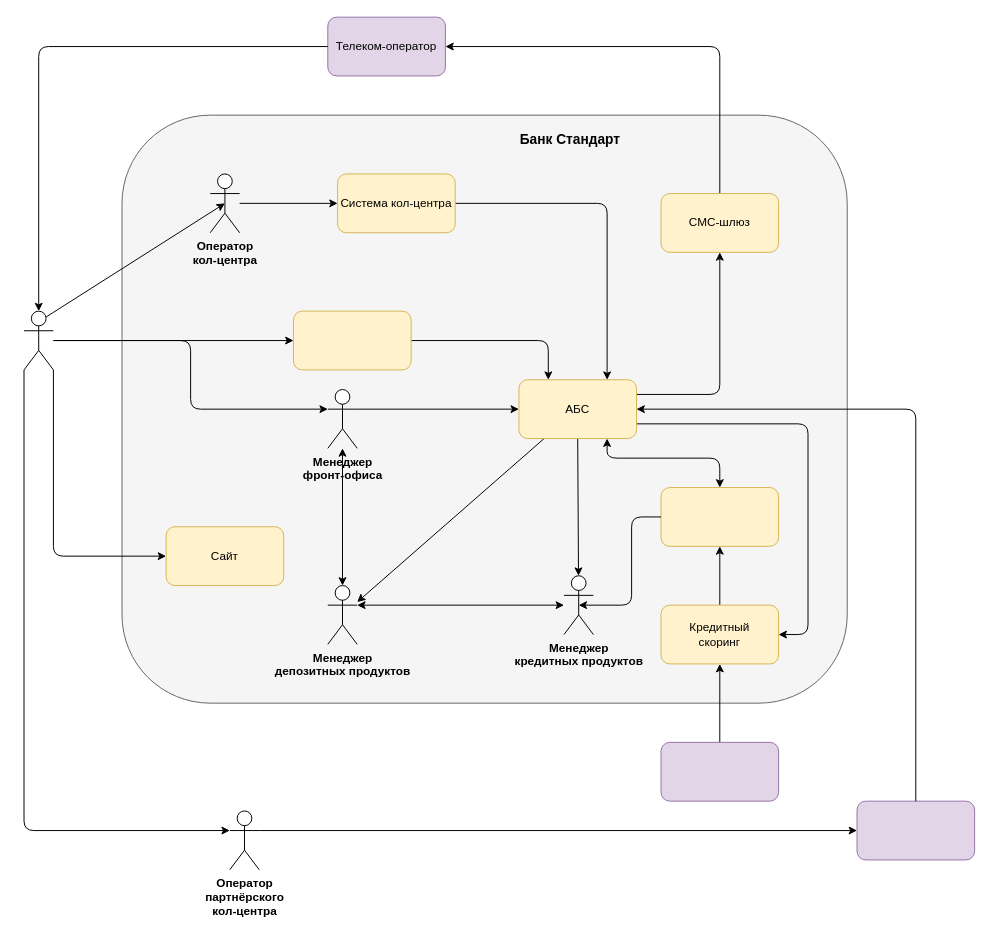
The diagram is 992 pixels wide and 936 high, and some of its shapes have lost their labels. The centre of each missing label's shape, as x and y in pixels:
"Бюро кредитных историй" goes at point 719,771.
"Интернет-банк" goes at point 352,340.
"Клиент" goes at point 38,340.
"Кредитный конвейер" goes at point 719,516.
"Система партнёрского кол-центра" goes at point 915,830.
